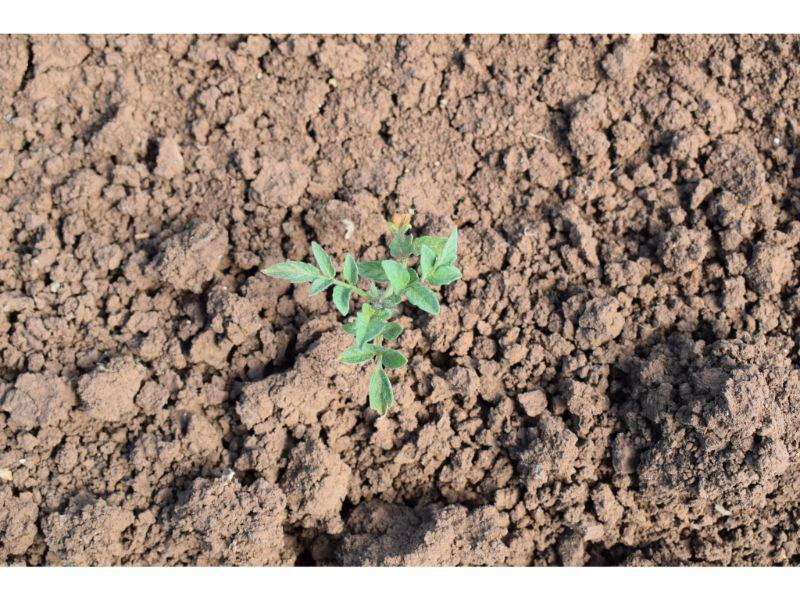tomato: (257, 225, 461, 416)
